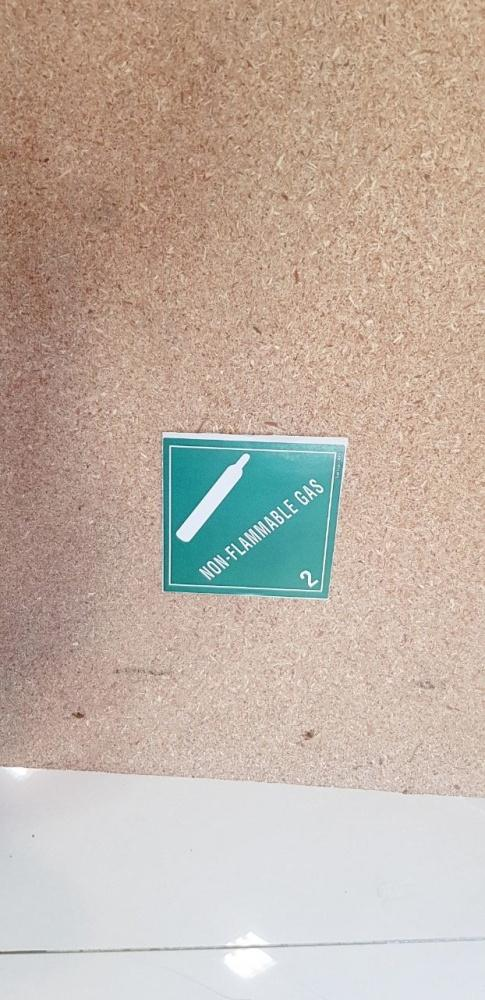non-flammable-gas: (163, 431, 341, 594)
